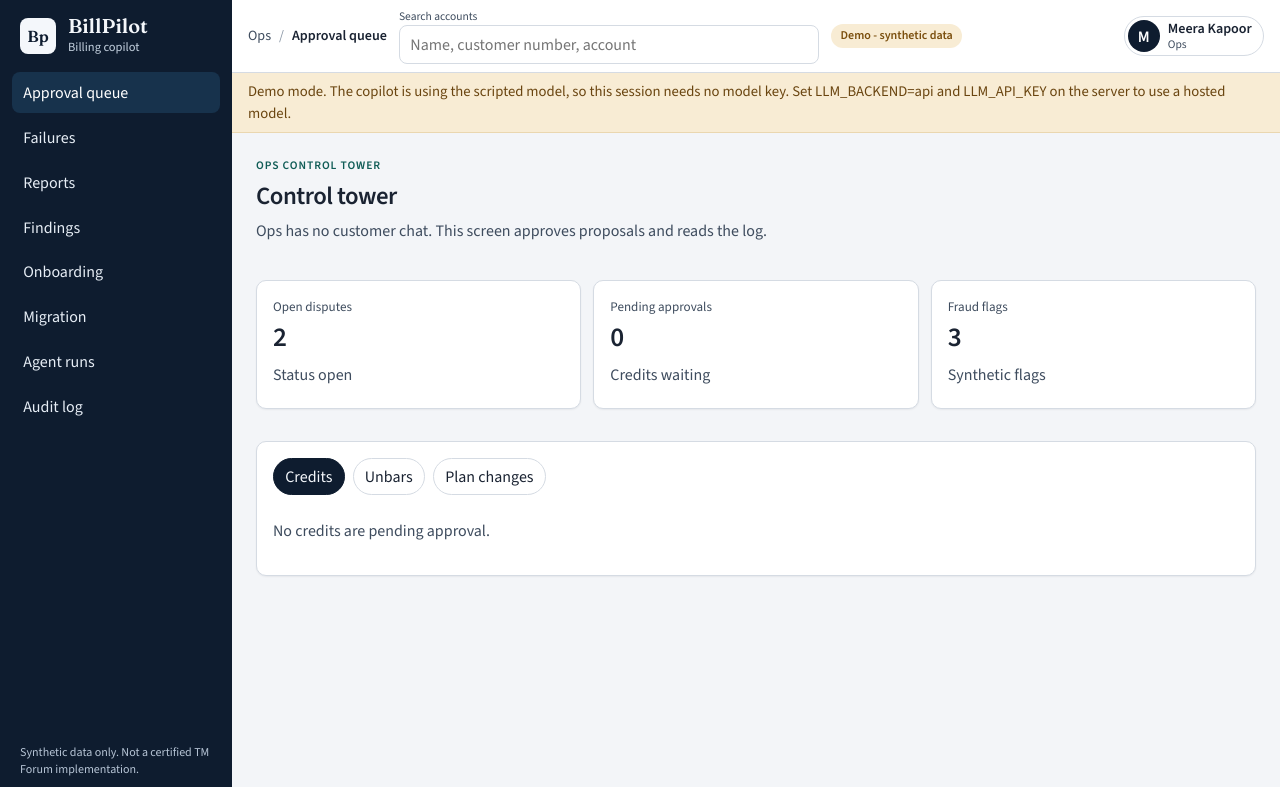
it: sign-in and role routing › opens the ops control tower with the operations panels
expect the heading "Control tower" is shown: met, box [256,179,397,212]
expect the text "no customer chat" is shown: met, box [256,220,767,241]
What coordinates should you click on to do the following:
click the button "Failures"
I would click on:
 (116, 138)
Its box is [12,117,220,158].
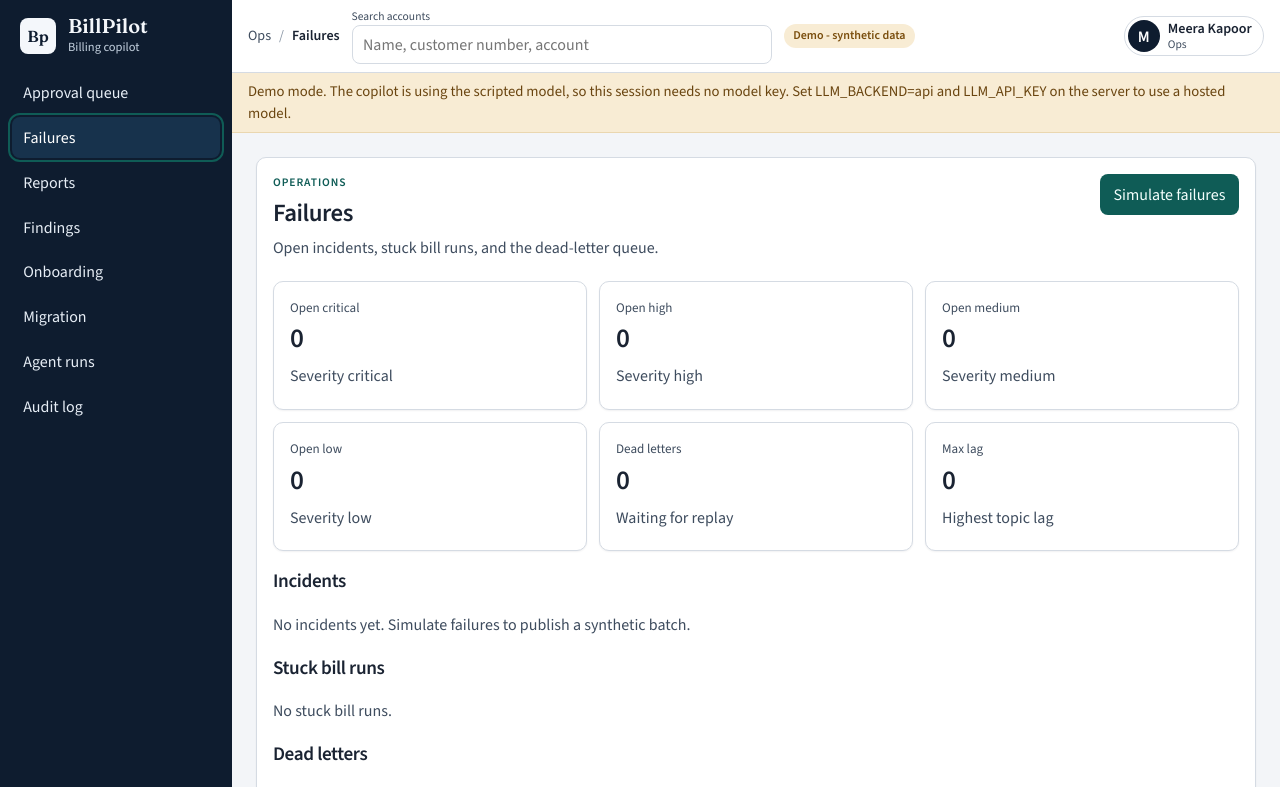
expect the heading "Failures" is shown: met, box [273,196,353,229]
expect the navigation bar named "Breadcrumb" shows "Failures": met, box [292,26,340,45]
expect the text "No incidents yet" is shown: met, box [273,614,690,635]
What coordinates should you click on to do the following:
click the button "Reports"
I would click on:
 (116, 182)
Its box is [12,162,220,203].
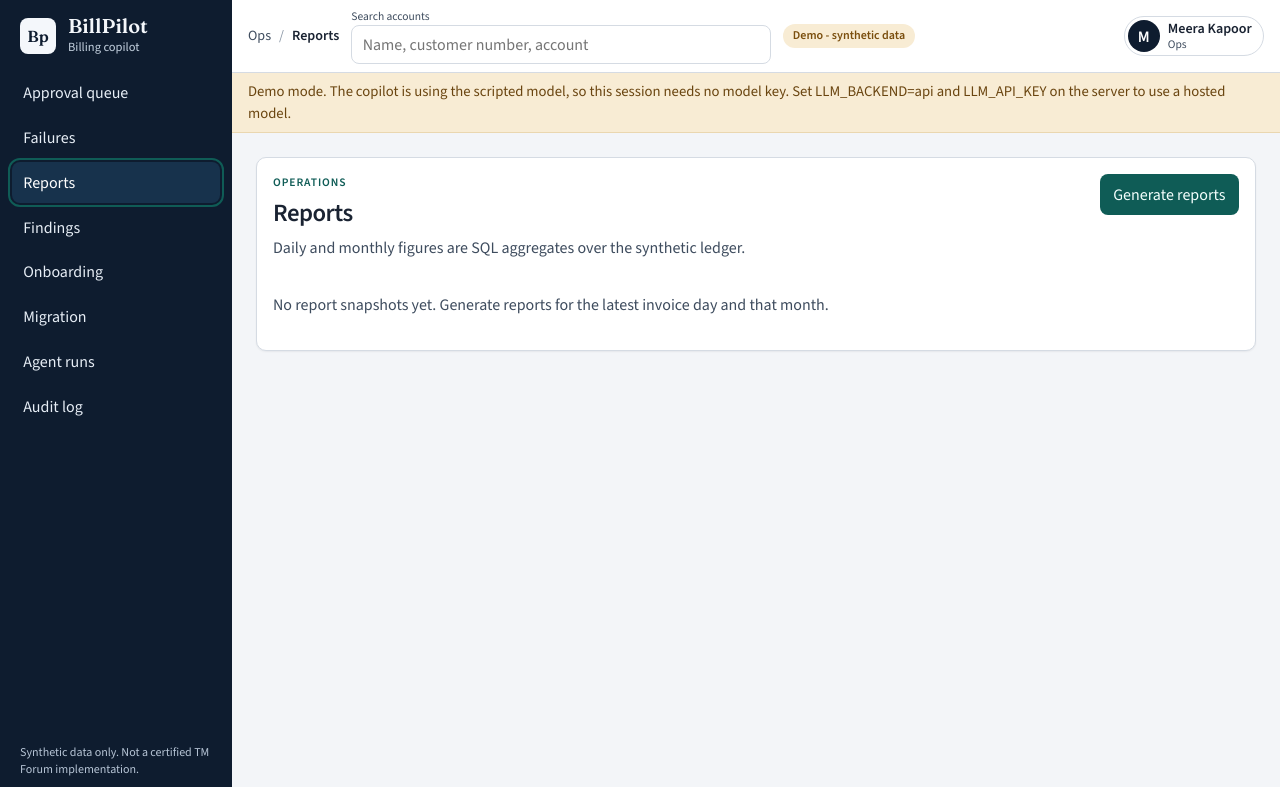
expect the heading "Reports" is shown: met, box [273,196,353,229]
expect the navigation bar named "Breadcrumb" shows "Reports": met, box [292,26,339,45]
expect the text "No report snapshots yet" is shown: met, box [273,294,829,315]
What coordinates should you click on to do the following:
click the button "Findings"
I would click on:
 (116, 227)
Its box is [12,207,220,248].
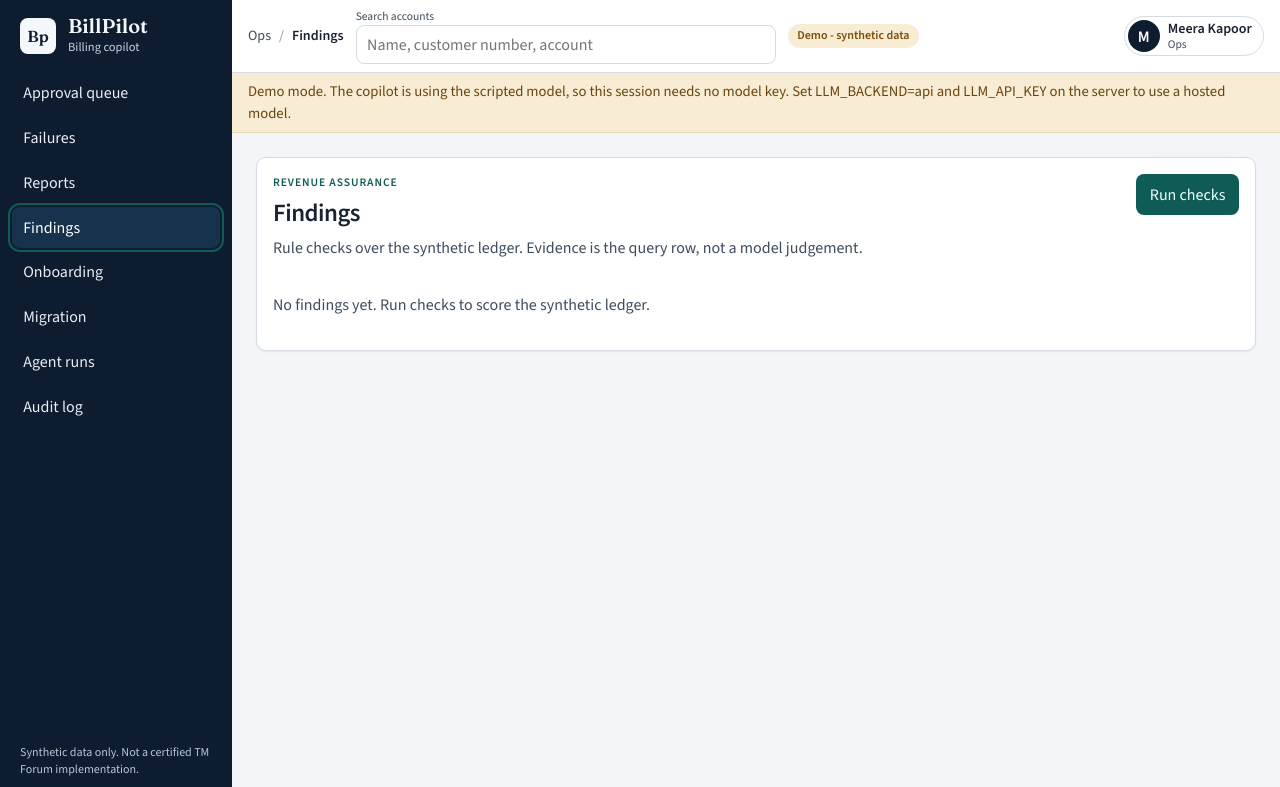
expect the heading "Findings" is shown: met, box [273,196,360,229]
expect the text "No findings yet. Run checks to score the synthetic ledger." is shown: met, box [273,294,650,315]
What coordinates should you click on to do the following:
click the button "Approval queue"
I would click on:
 (116, 93)
Its box is [12,72,220,113].
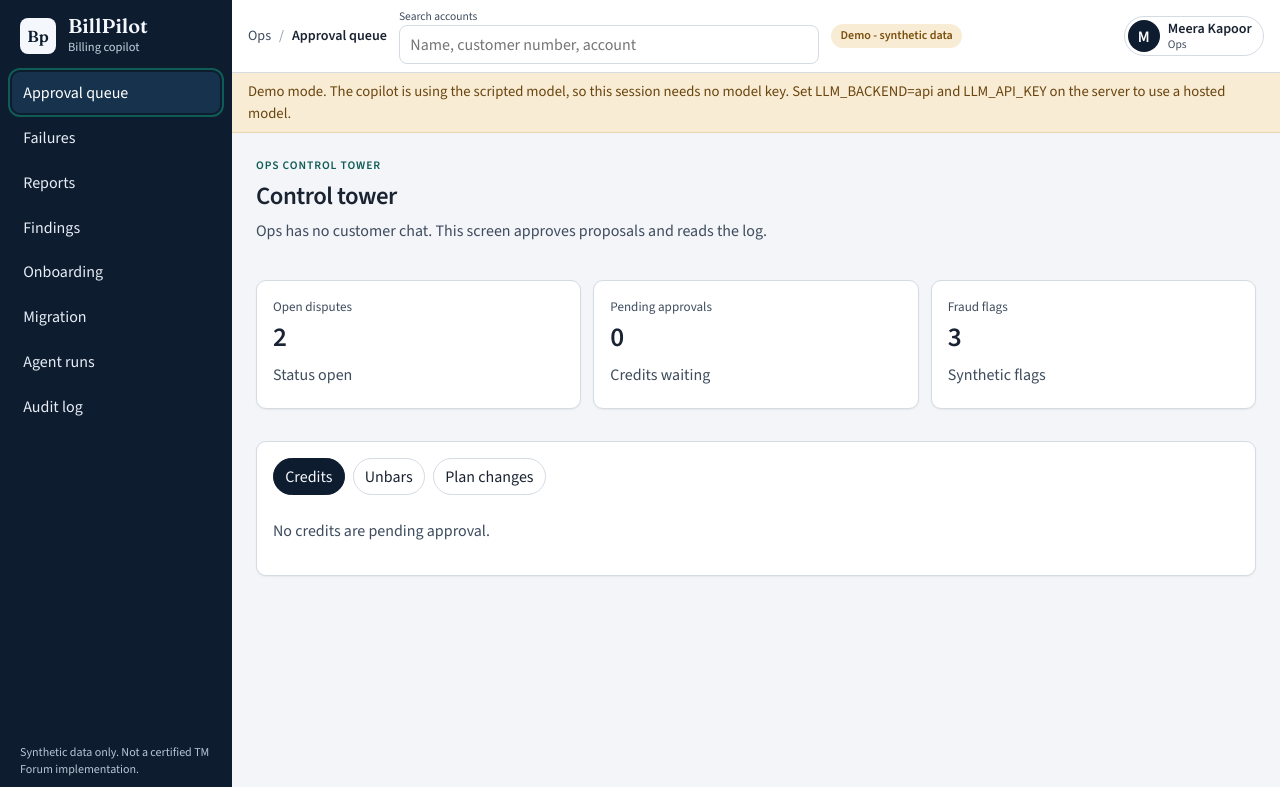
What coordinates should you click on to do the following:
click the tab "Unbars"
I would click on:
 (389, 476)
Its box is [353,458,425,495].
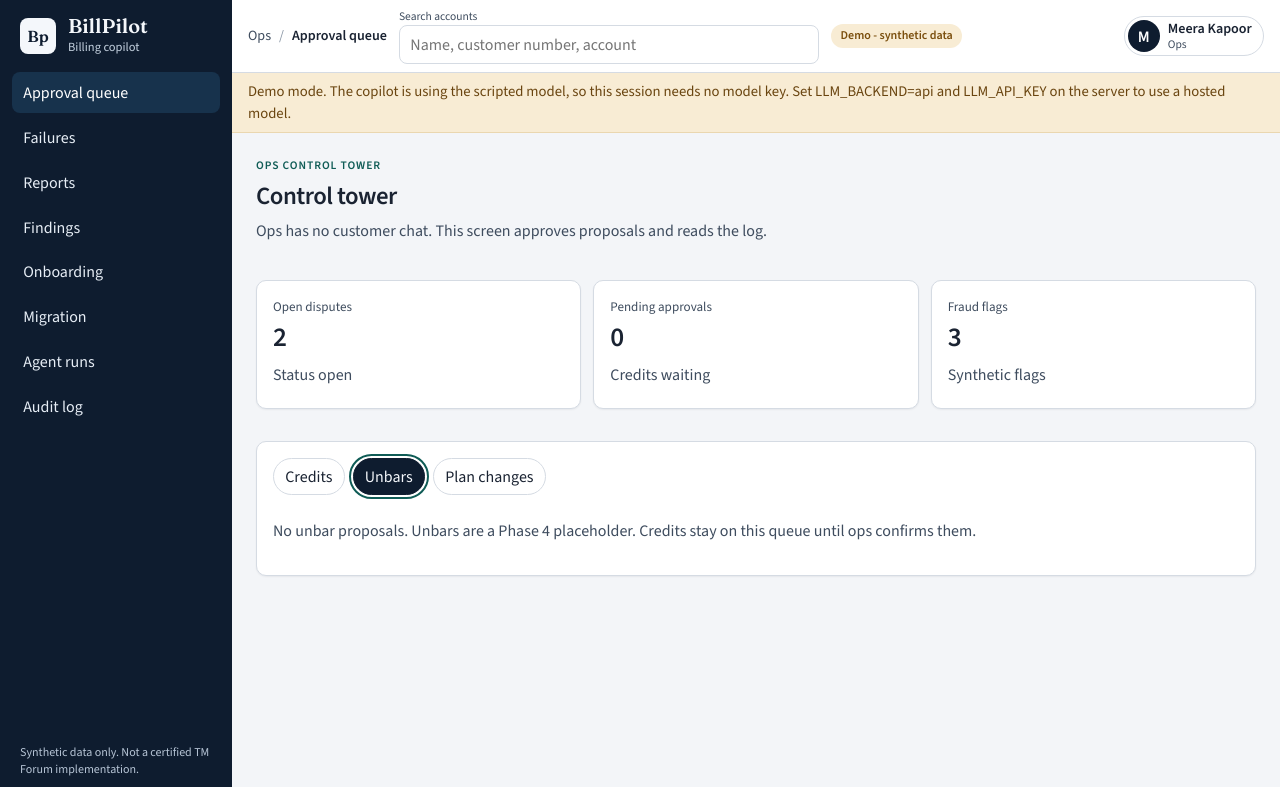
expect the text "No unbar proposals" is shown: met, box [273,520,976,540]
What coordinates should you click on to do the following:
click the button "Audit log"
I would click on:
 (116, 406)
Its box is [12,386,220,427].
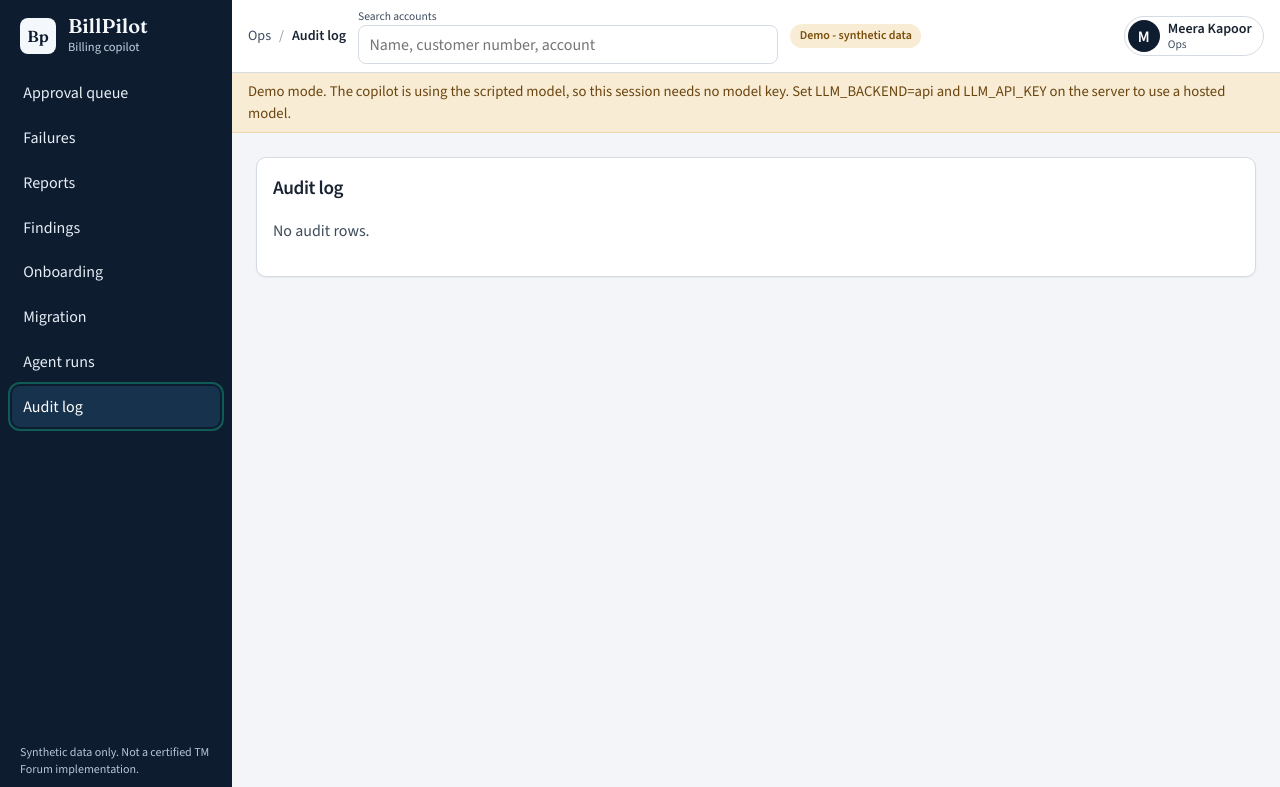
expect the heading "Audit log" is shown: met, box [273,175,343,200]
expect the navigation bar named "Breadcrumb" shows "Audit log": met, box [292,26,346,45]
